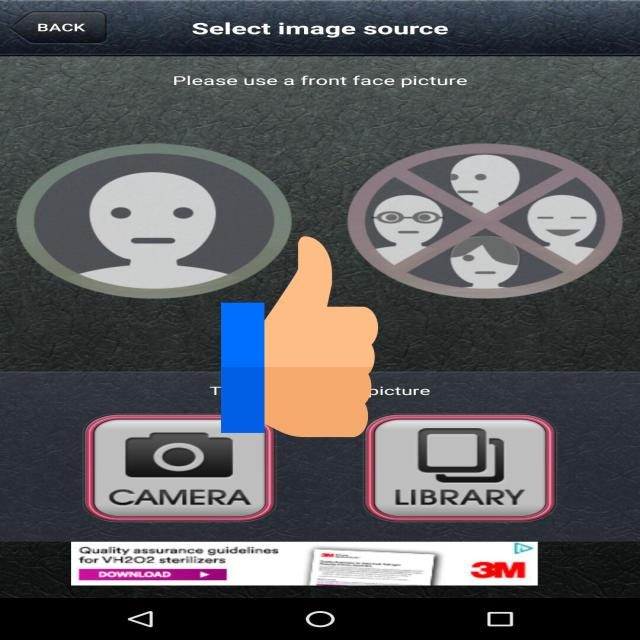privacy zuckering: (221, 231, 378, 442)
